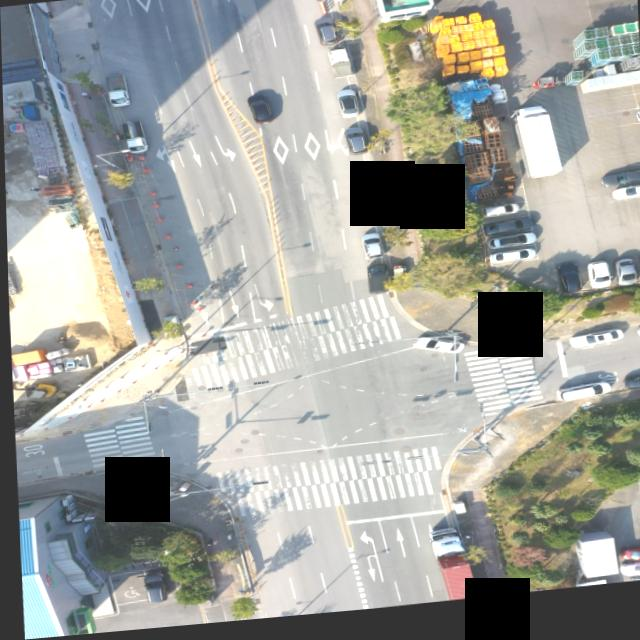car: (411, 339, 461, 362), (556, 392, 609, 411), (362, 266, 389, 300), (139, 571, 165, 605), (485, 226, 533, 244), (568, 339, 621, 355), (556, 270, 582, 302), (488, 240, 535, 256), (344, 132, 369, 161), (336, 93, 360, 123), (248, 98, 272, 127), (489, 255, 535, 270), (603, 177, 640, 194), (360, 236, 382, 264), (588, 269, 610, 296), (318, 22, 340, 49), (614, 267, 634, 293), (484, 211, 518, 225), (615, 556, 640, 574), (616, 570, 640, 588), (612, 196, 640, 211), (620, 382, 640, 398), (633, 476, 640, 513), (635, 334, 640, 347), (635, 120, 640, 132), (639, 260, 640, 287)
large_truck: (426, 530, 479, 610)
medium_truck: (516, 112, 566, 191)
small_truck: (327, 50, 356, 84), (122, 120, 148, 155), (348, 175, 374, 209), (107, 71, 133, 105)
